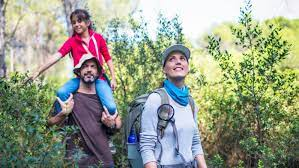face: (165, 53, 191, 80), (79, 60, 100, 83), (69, 15, 91, 34)
